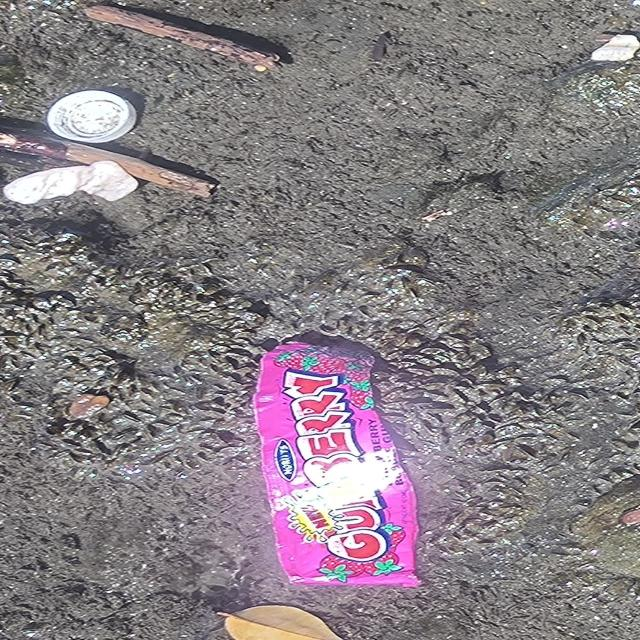litter: (258, 344, 426, 592), (45, 90, 139, 146)
